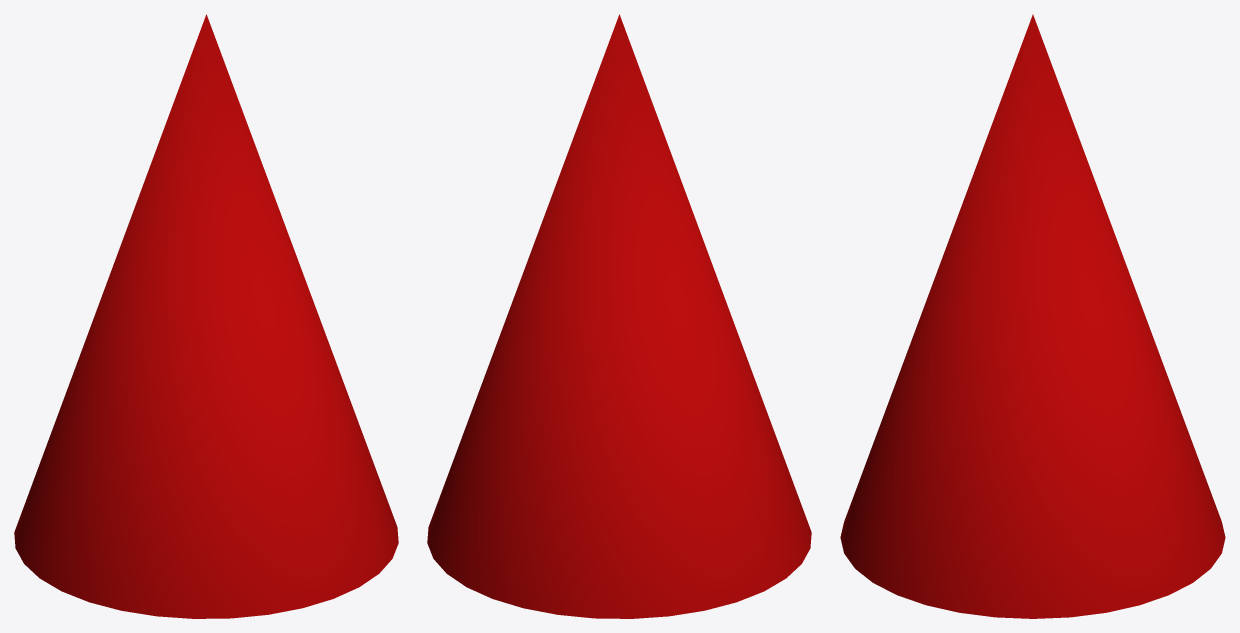
File: pointer.obj
3 renders of one model, left to right at view 1: azimuth 30°, elevation 25°; view 2: azimuth 150°, elevation 25°; view 3: azimuth 270°, elevation 25°, orthographic.
Size of the model in its own units: 1 by 1.5 by 1.
